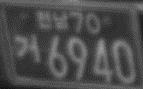0: (112, 36, 137, 84), (84, 10, 102, 35)
4: (91, 35, 114, 84)
6: (45, 34, 68, 78)
7: (69, 10, 83, 34)
9: (67, 35, 88, 80)
거: (14, 32, 41, 64)
전남_O: (34, 10, 68, 31)
